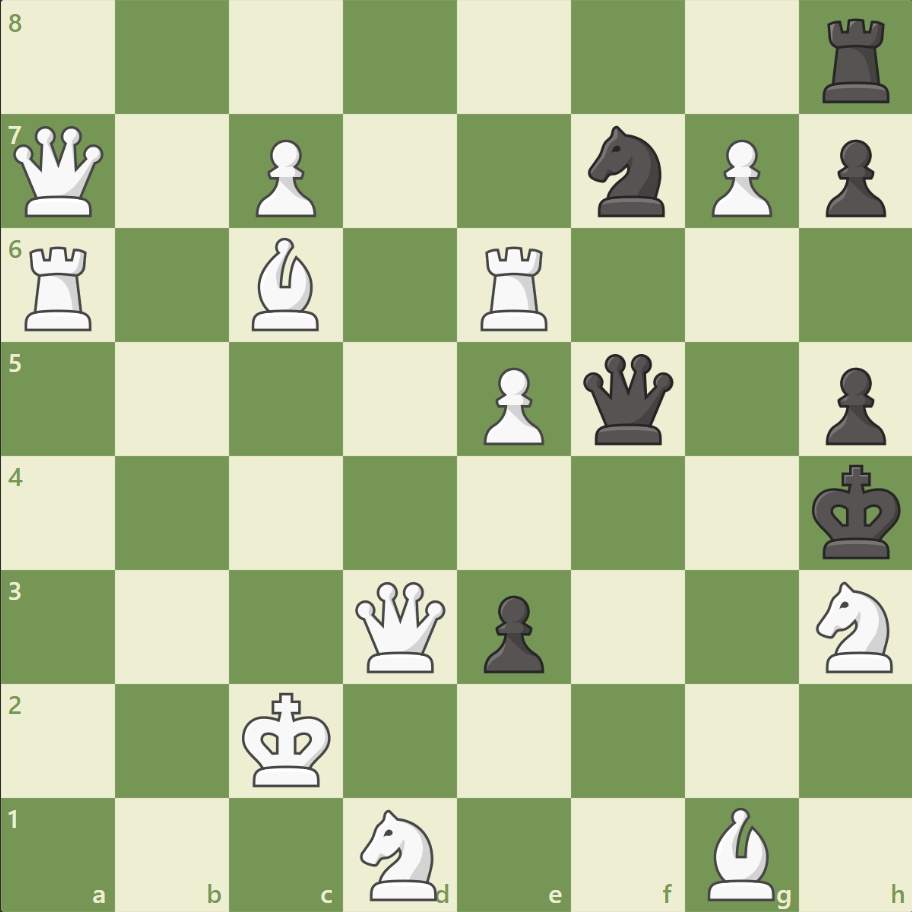B: (244, 233, 328, 336), (698, 801, 782, 904)
K: (238, 685, 338, 793)
N: (351, 802, 449, 904), (806, 575, 903, 677)
P: (247, 132, 322, 223), (701, 132, 776, 223), (474, 359, 549, 450)
Q: (10, 122, 109, 222), (351, 576, 450, 676)
R: (19, 239, 102, 336), (473, 239, 556, 336)
k: (806, 458, 906, 566)
n: (579, 121, 676, 223)
p: (474, 586, 549, 677), (815, 132, 889, 223), (815, 359, 889, 450)
q: (578, 349, 677, 449)
r: (814, 12, 897, 109)
